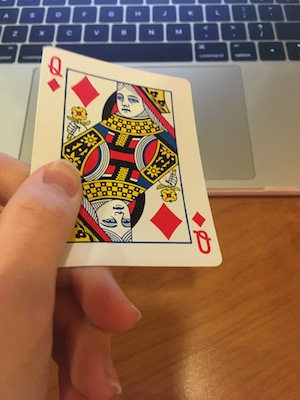QueenOfDiamonds: (23, 41, 229, 275)
